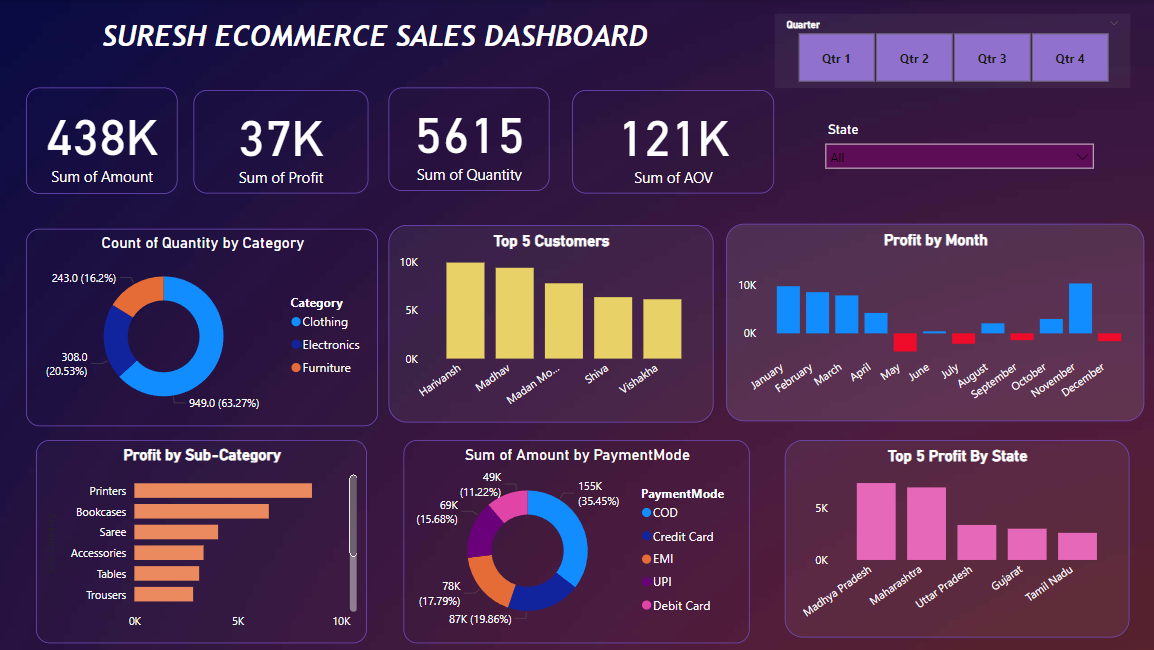

Layout of this report page (visuals, bound fields, positions):
{"tool":"powerbi","page":{"name":"Page 1","canvas":[1280,720],"ordinal":0},"visuals":[{"type":"textbox","box":[10,15,823.3,63.3],"z":0},{"type":"columnChart","title":"Profit by Month","fields":{"Y":["Details.Profit"],"Category":["Orders.Order Date.Variation.Date Hierarchy.Month"]},"box":[807,246.3,459.1,217],"z":1000},{"type":"clusteredBarChart","title":" Profit by Sub-Category","fields":{"Y":["Details.Profit"],"Category":["Details.Sub-Category"]},"box":[50,483.3,363.3,223.3],"z":2000},{"type":"columnChart","title":"Top 5 Customers","fields":{"Category":["Orders.CustomerName"],"Y":["Details.Amount"]},"box":[436.7,246.7,356.7,216.7],"z":3000},{"type":"donutChart","fields":{"Category":["Details.Category"],"Y":["Details.Quantity"]},"box":[38.3,251.7,386.7,216.7],"z":4000},{"type":"donutChart","fields":{"Category":["Details.PaymentMode"],"Y":["Details.Amount"]},"box":[453.3,483.3,380,223.3],"z":5000},{"type":"card","fields":{"Values":["Details.AOV"]},"box":[638.3,98.3,221.7,113.3],"z":6000},{"type":"card","fields":{"Values":["Details.Profit"]},"box":[221.7,98.3,191.7,113.3],"z":7000},{"type":"card","fields":{"Values":["Details.Quantity"]},"box":[436.7,96.7,176.7,113.3],"z":8000},{"type":"card","fields":{"Values":["Details.Amount"]},"box":[38.3,96.7,166.7,116.7],"z":9000},{"type":"columnChart","title":"Top 5 Profit By State","fields":{"Category":["Orders.State"],"Y":["Details.Profit"]},"box":[871.7,483.3,378.3,216.7],"z":10000},{"type":"slicer","fields":{"Values":["Orders.Order Date.Variation.Date Hierarchy.Quarter"]},"box":[860,15,390,81.7],"z":11000},{"type":"slicer","fields":{"Values":["Orders.State"]},"box":[905,128.3,315,63.3],"z":12000}]}

Visuals, with their boxes in screenshot pixels (x1, y1, x2, y2), scaled from the page's 1280x720 canvas onto the 1154x650 screenshot:
textbox: <region>9, 14, 751, 71</region>
"Profit by Month" columnChart: <region>728, 222, 1141, 418</region>
" Profit by Sub-Category" clusteredBarChart: <region>45, 436, 373, 638</region>
"Top 5 Customers" columnChart: <region>394, 223, 715, 418</region>
donutChart - Details.Category x Details.Quantity: <region>35, 227, 383, 423</region>
donutChart - Details.PaymentMode x Details.Amount: <region>409, 436, 751, 638</region>
card - Details.AOV: <region>575, 89, 775, 191</region>
card - Details.Profit: <region>200, 89, 373, 191</region>
card - Details.Quantity: <region>394, 87, 553, 190</region>
card - Details.Amount: <region>35, 87, 185, 193</region>
"Top 5 Profit By State" columnChart: <region>786, 436, 1127, 632</region>
slicer - Orders.Order Date.Variation.Date Hierarchy.Quarter: <region>775, 14, 1127, 87</region>
slicer - Orders.State: <region>816, 116, 1100, 173</region>
